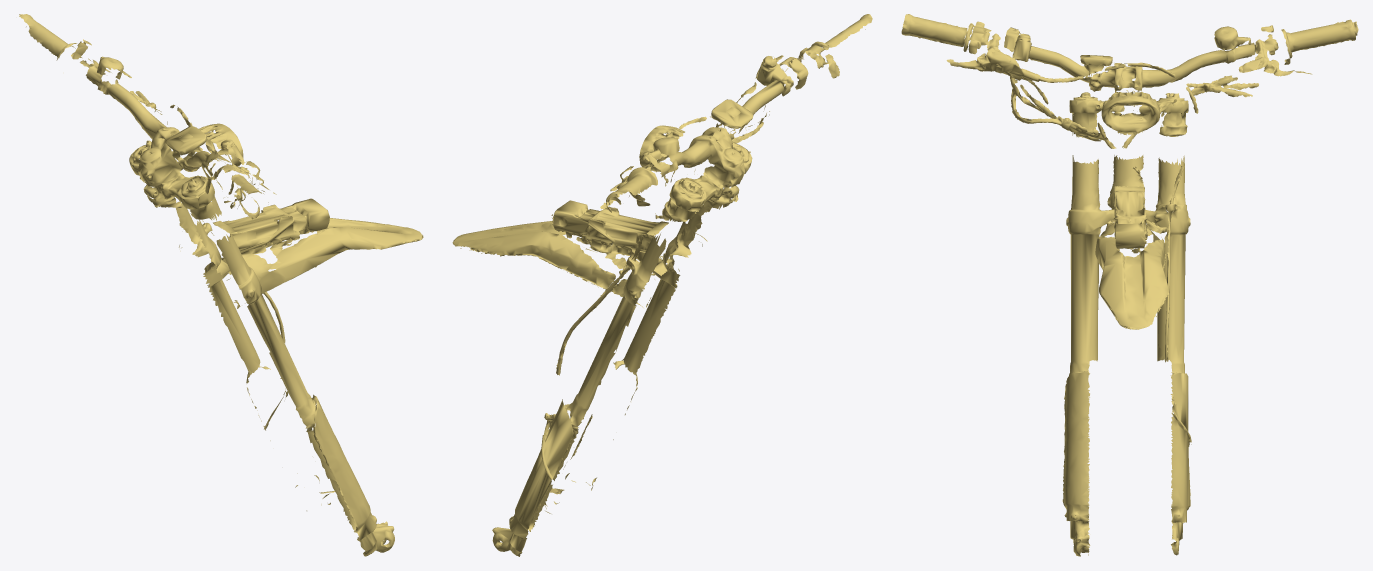
The model's file is fork.glb.
The picture shows the model from 3 angles, left to right: view 1: azimuth 30°, elevation 25°; view 2: azimuth 150°, elevation 25°; view 3: azimuth 270°, elevation 25°; orthographic projection. The views are drawn at different scales.
Parts seen in each view (by area): view 1: fork; view 2: fork; view 3: fork.
Part boxes in pixels (x1,y1,x2,y2): fork: (19,14,423,556); fork: (452,14,872,556); fork: (901,14,1358,556).
Size of the model in its own units: 0.5331 by 0.8256 by 0.7719.
